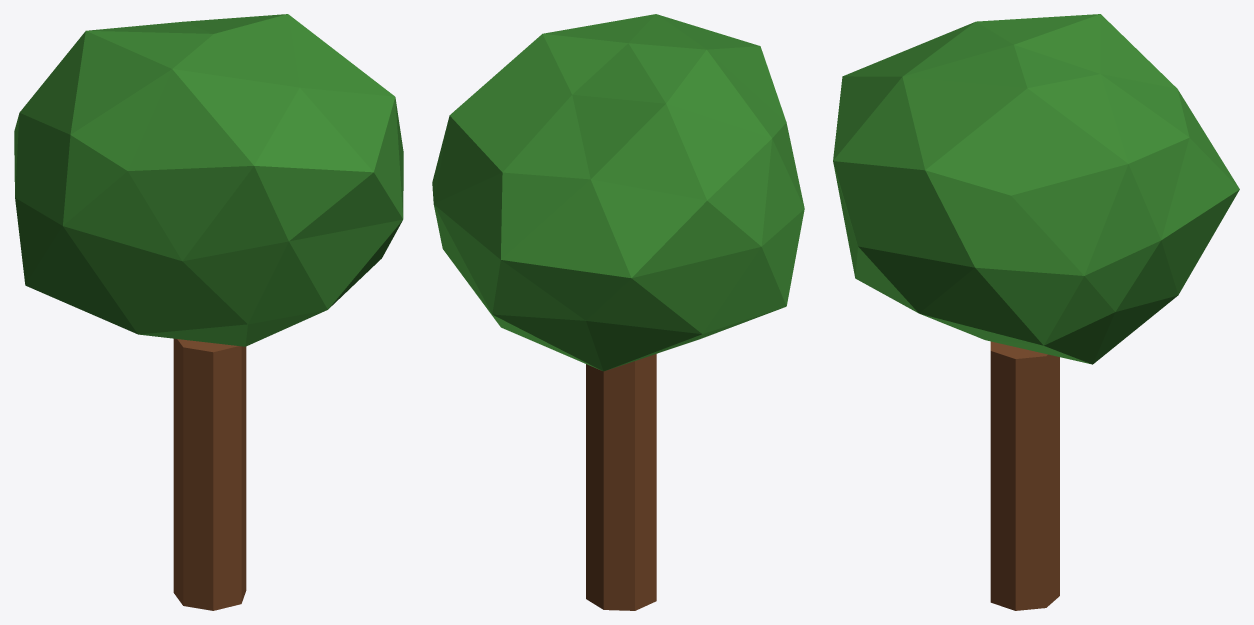
The model's file is wall_tree_tall.glb.
3 views of the same model, side by side, from view 1: azimuth 30°, elevation 25°; view 2: azimuth 150°, elevation 25°; view 3: azimuth 270°, elevation 25° (orthographic). The views are drawn at different scales.
Parts seen in each view (by area): view 1: Cylinder; view 2: Cylinder; view 3: Cylinder.
Part boxes in pixels (bbox=[...]): Cylinder: bbox=[14, 14, 403, 610]; Cylinder: bbox=[432, 14, 804, 610]; Cylinder: bbox=[833, 14, 1239, 610].
Bounding box in the file's own units: 2 × 3.12 × 2.09.
